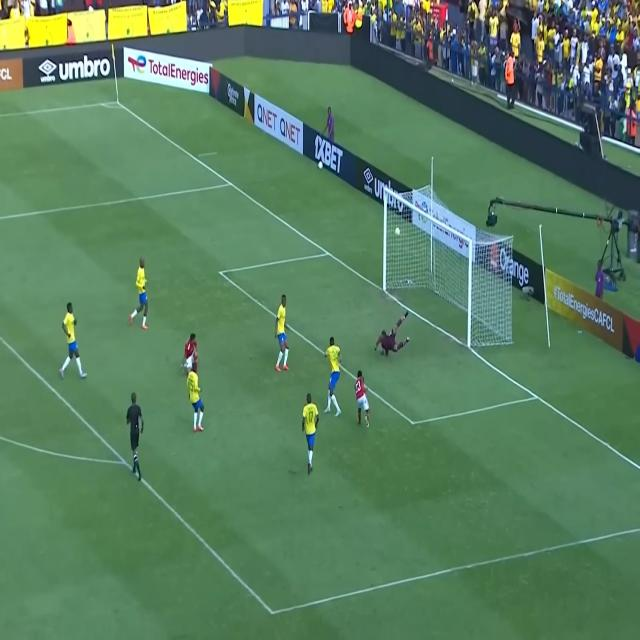Ball: (394, 227, 402, 240)
Keeper: (374, 304, 410, 354)
Player: (63, 300, 89, 382), (322, 338, 344, 419), (300, 391, 322, 469), (130, 258, 150, 330), (187, 367, 206, 435), (276, 287, 290, 374), (352, 368, 372, 428), (181, 334, 198, 372)
Ref: (126, 390, 147, 486)
